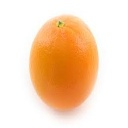orange: (26, 12, 102, 114)
